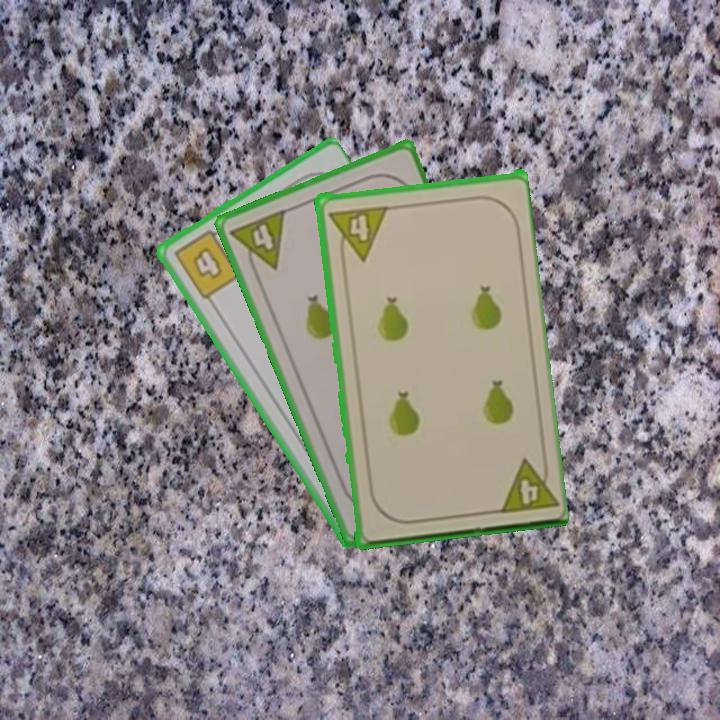4b: (170, 223, 243, 303)
4p: (226, 205, 289, 280), (492, 452, 558, 517), (324, 202, 389, 264)
